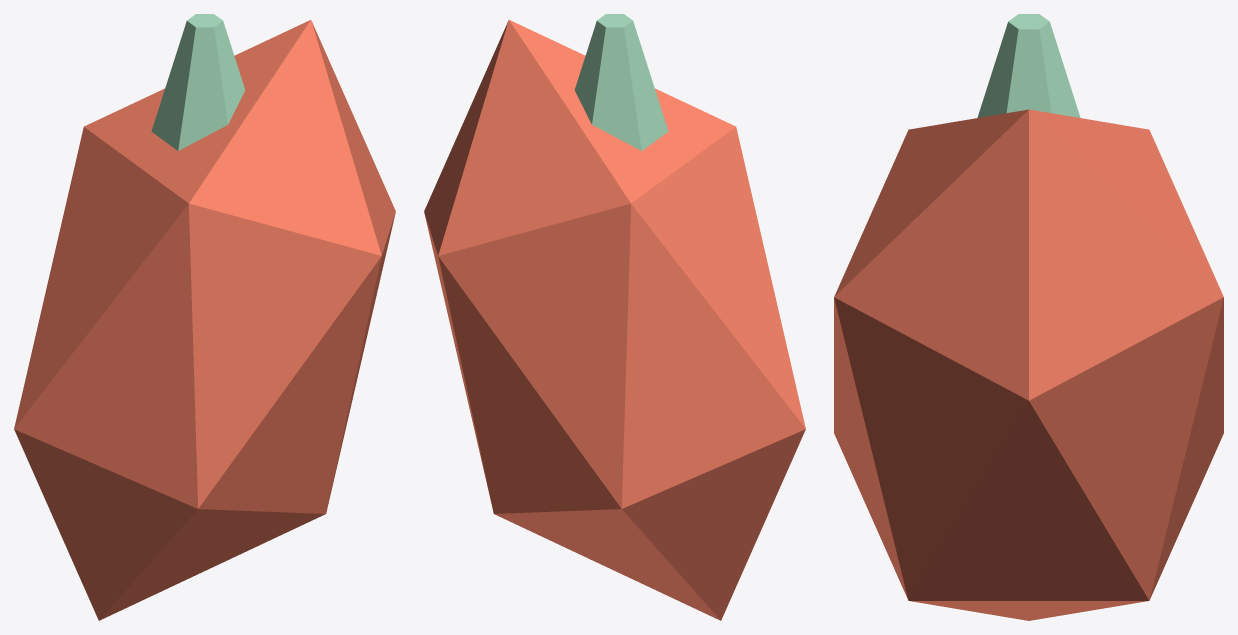
The model's file is ember_fire_projectile.glb.
The picture shows the model from 3 angles, left to right: view 1: azimuth 30°, elevation 25°; view 2: azimuth 150°, elevation 25°; view 3: azimuth 270°, elevation 25°; orthographic projection. The views are drawn at different scales.
Visible parts, largest first — view 1: PepperBody, PepperStem; view 2: PepperBody, PepperStem; view 3: PepperBody, PepperStem.
Part boxes in pixels (<box>): PepperBody: <box>14,20,395,620</box>; PepperStem: <box>151,14,245,150</box>; PepperBody: <box>424,20,805,620</box>; PepperStem: <box>574,14,668,150</box>; PepperBody: <box>834,109,1223,620</box>; PepperStem: <box>977,14,1080,117</box>.
Bounding box in the file's own units: 1.21 × 1.74 × 0.9357.
